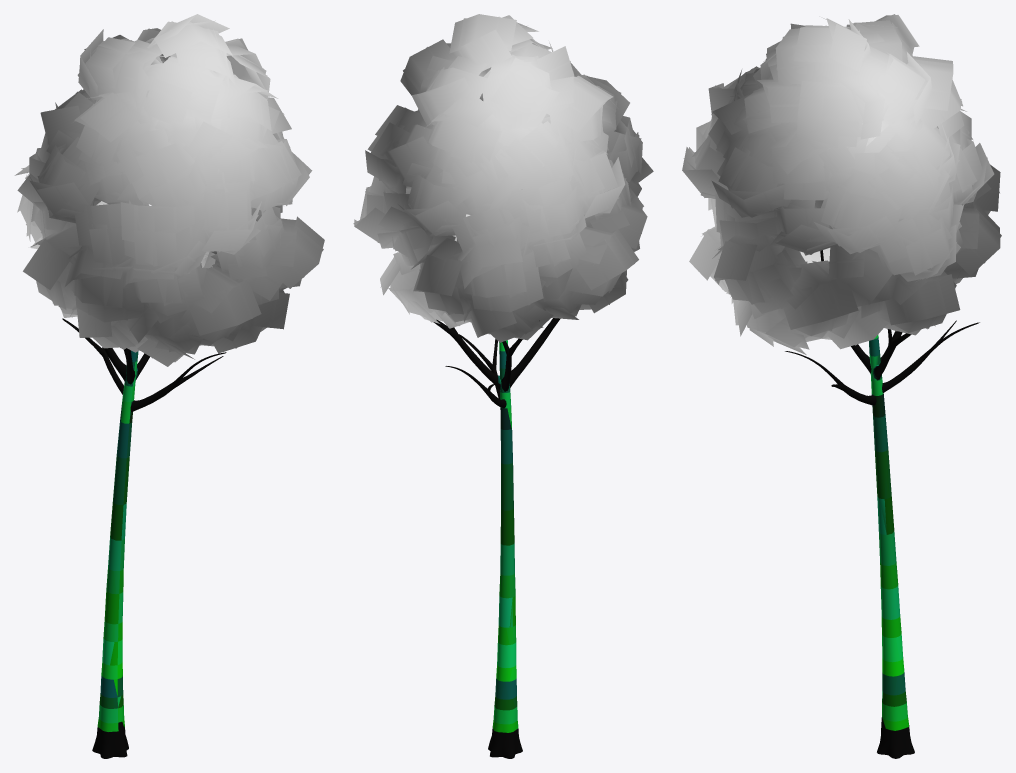
Rendered from SM_tree_birch_01.fbx.
3 views of the same model, side by side, from view 1: azimuth 30°, elevation 25°; view 2: azimuth 150°, elevation 25°; view 3: azimuth 270°, elevation 25° (orthographic). The views are drawn at different scales.
Visible parts, largest first — view 1: _142430; view 2: _142430; view 3: _142430.
Boxes of the visible parts, x1,y1,x2,y2 form: _142430: (14,14,324,758); _142430: (353,14,653,758); _142430: (682,14,1001,758).
Size of the model in its own units: 110 by 297 by 114.
